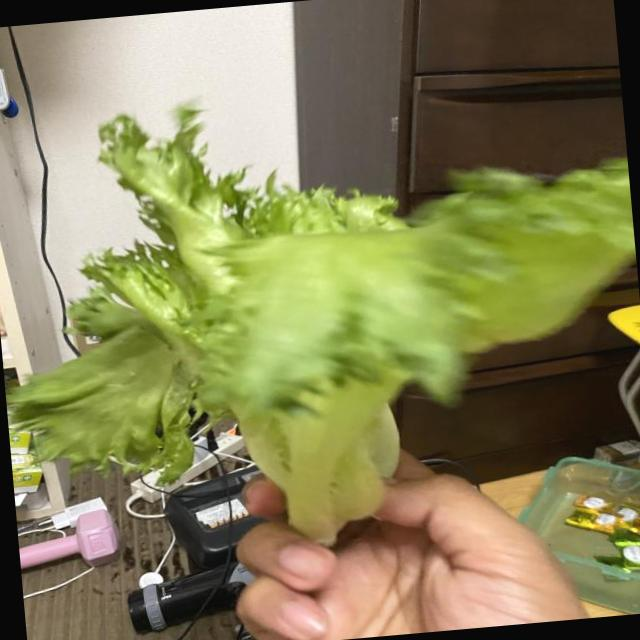Lettuce-Ready-to-Harvest: (11, 108, 636, 541)
